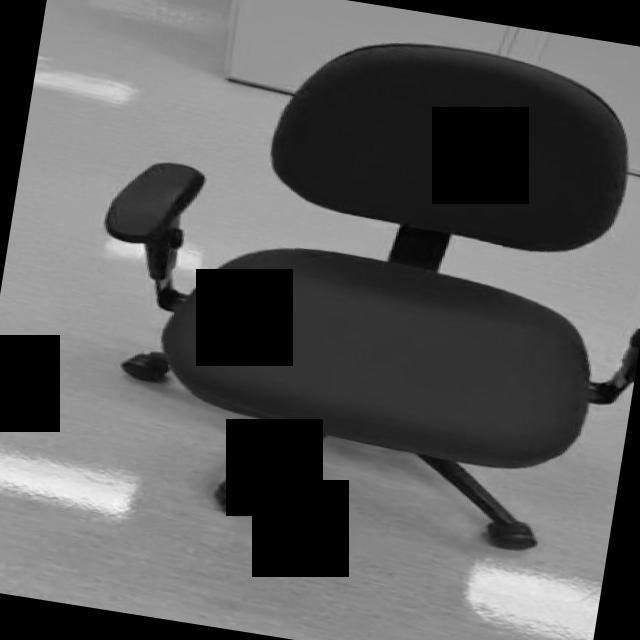chair: (61, 0, 640, 572)
